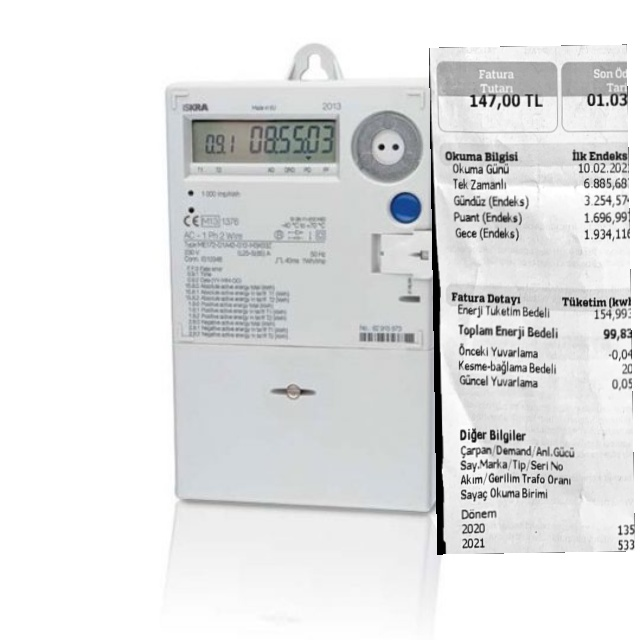electricity-bill: (429, 43, 635, 554)
